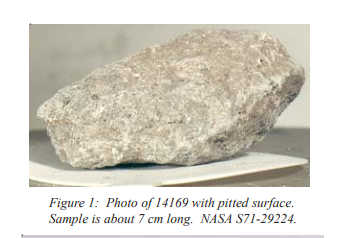Breccia: (45, 23, 284, 174)
